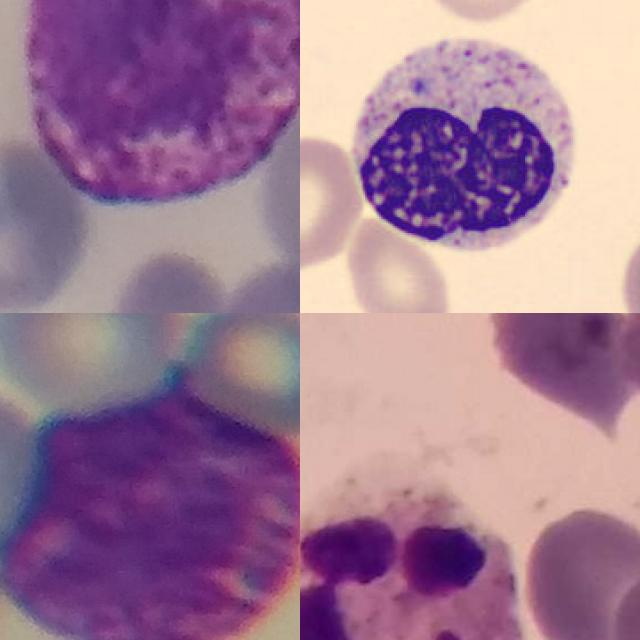Basophil: (0, 385, 300, 640), (27, 0, 300, 207)
Monocyte: (339, 25, 588, 259)
Neutrophil: (300, 475, 523, 640)
RBC: (340, 210, 455, 313), (300, 130, 365, 277), (414, 0, 571, 25)
